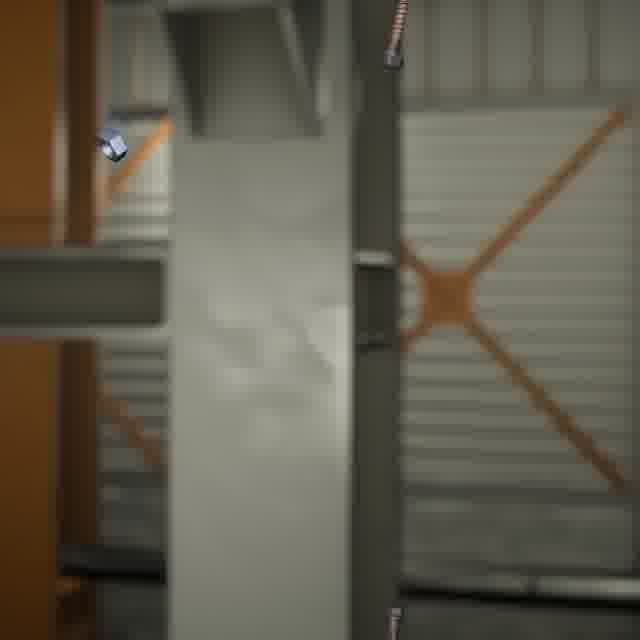bolt: (372, 0, 413, 73), (378, 603, 408, 640)
nut: (91, 123, 131, 166)
